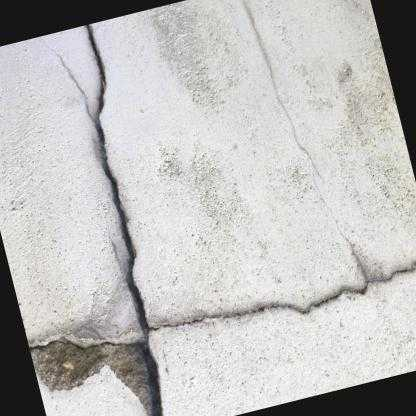crack: (27, 23, 416, 416), (240, 0, 367, 279)
